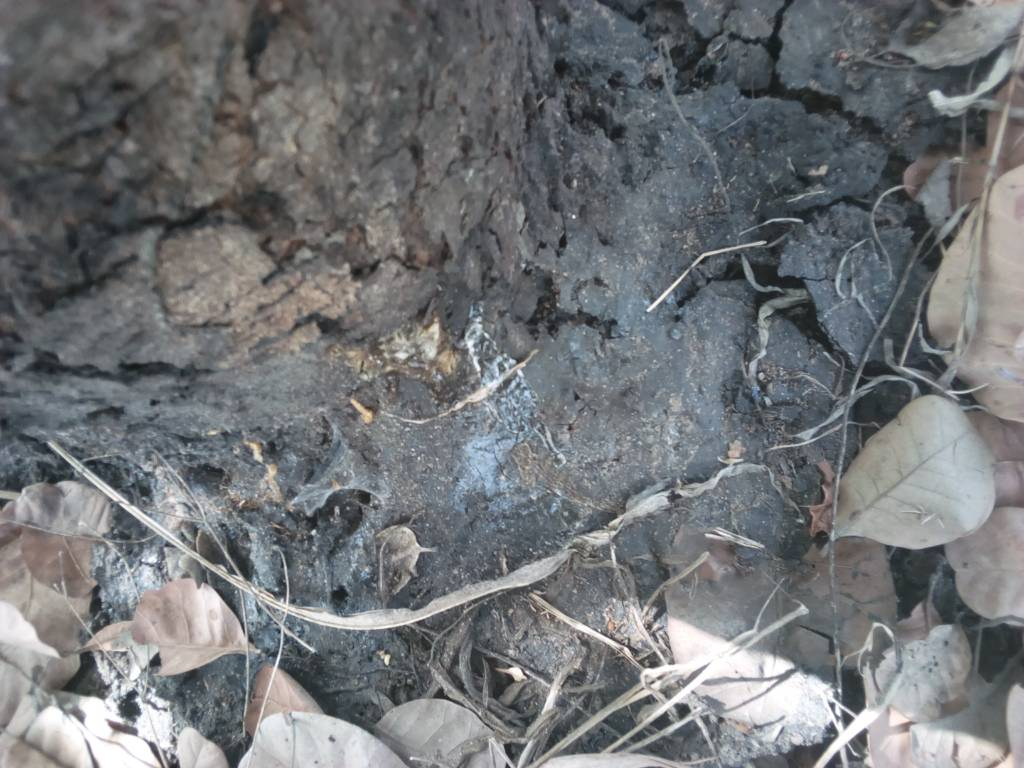Gommose: (42, 2, 545, 447), (590, 14, 885, 489)
